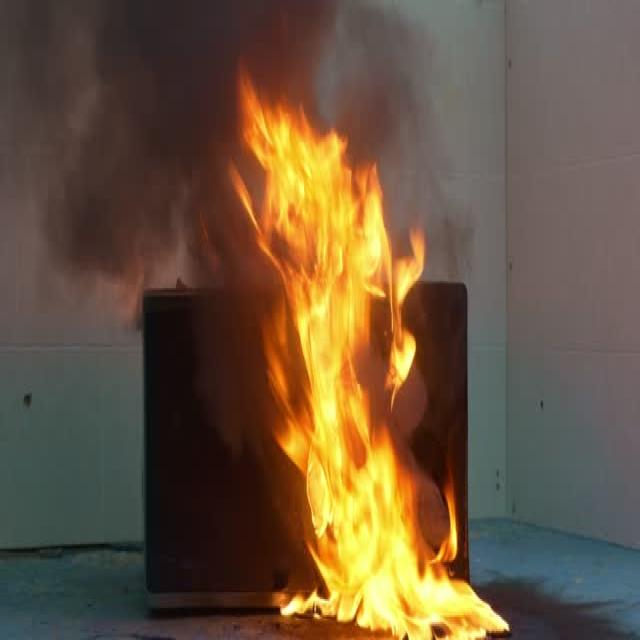fire: (303, 289, 433, 640), (252, 113, 388, 270)
